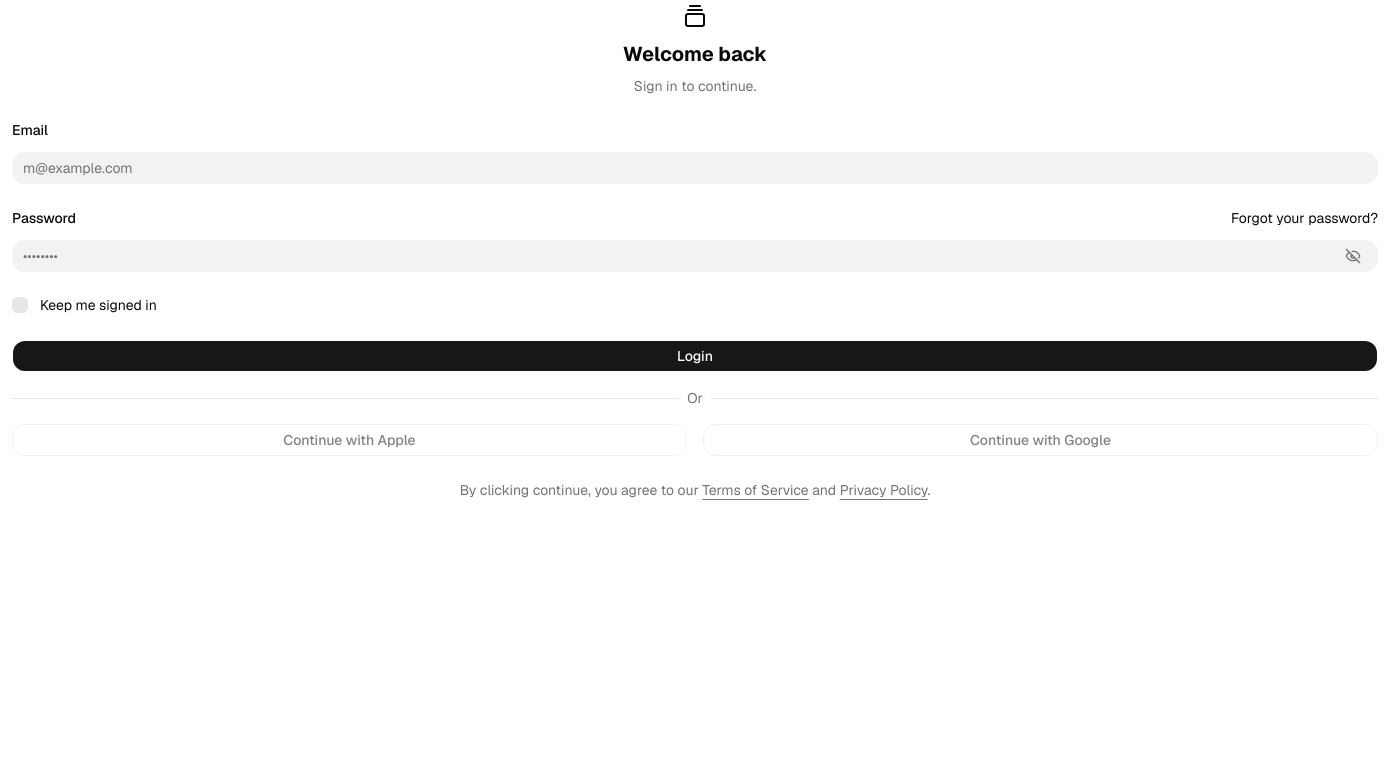
Test: LoginForm › shows the server's message when the login fails
The image size is (1390, 768).
Type "ada@example.com" into the field labelled "Email" at (695, 168), box [12,152,1378,184]
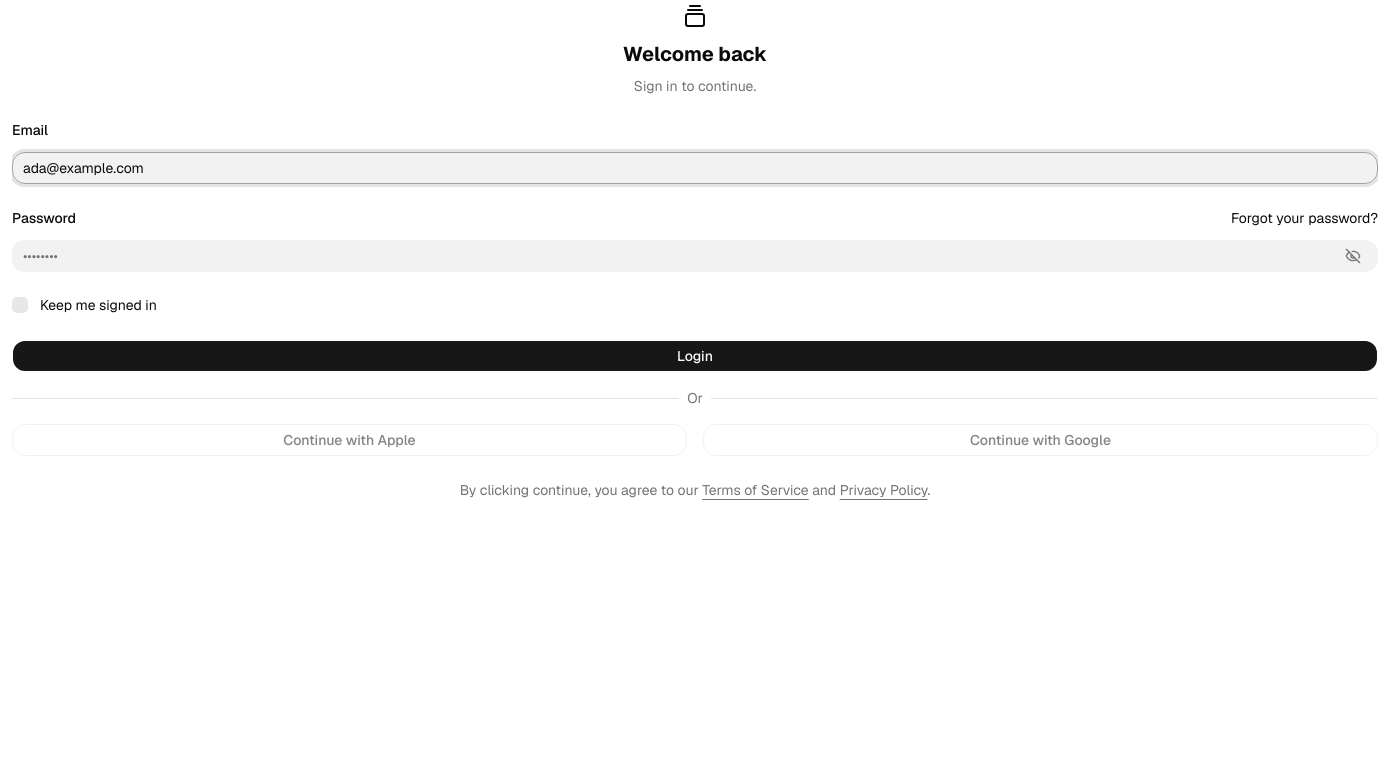
Type "a-good-password" into the password field labelled "Password" at (672, 256), box [13,240,1332,272]
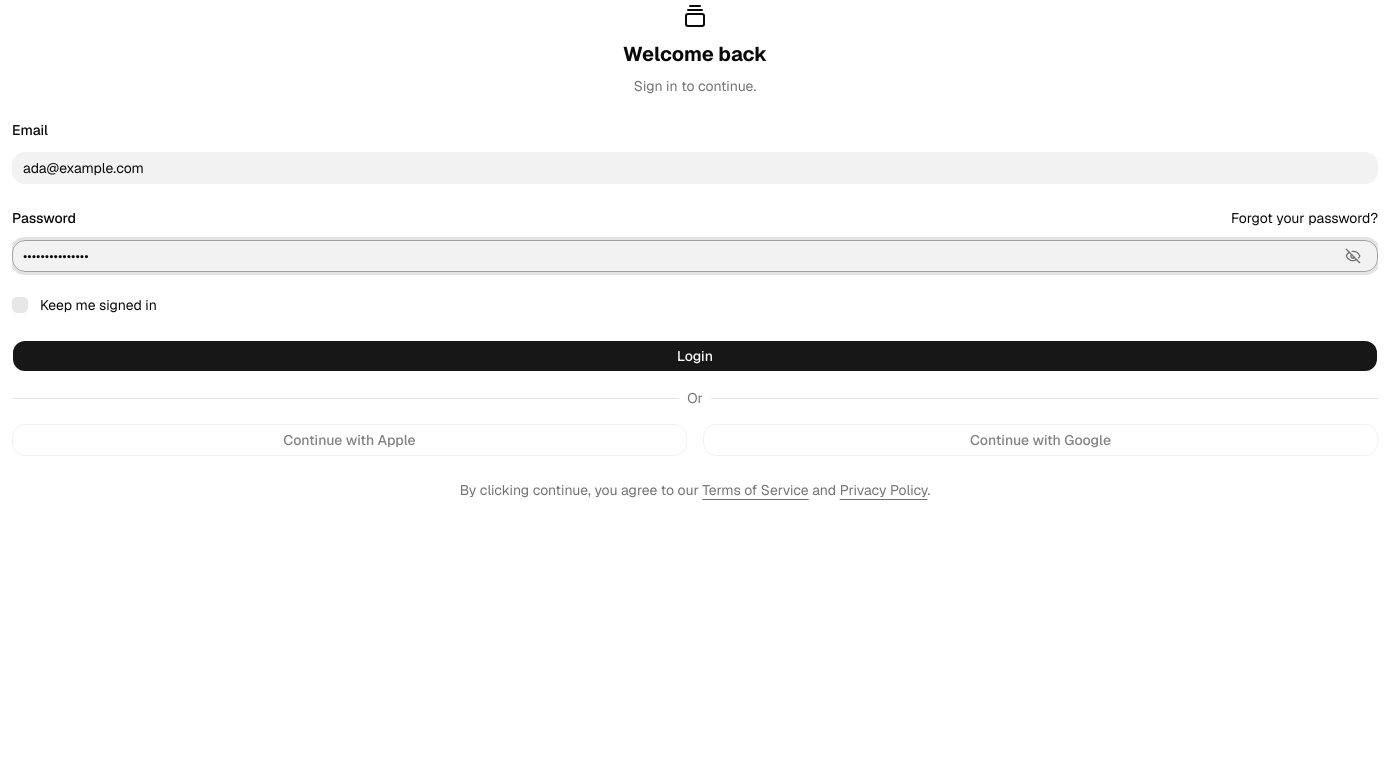
Click the button "Login" at (695, 356), box [12,340,1378,372]
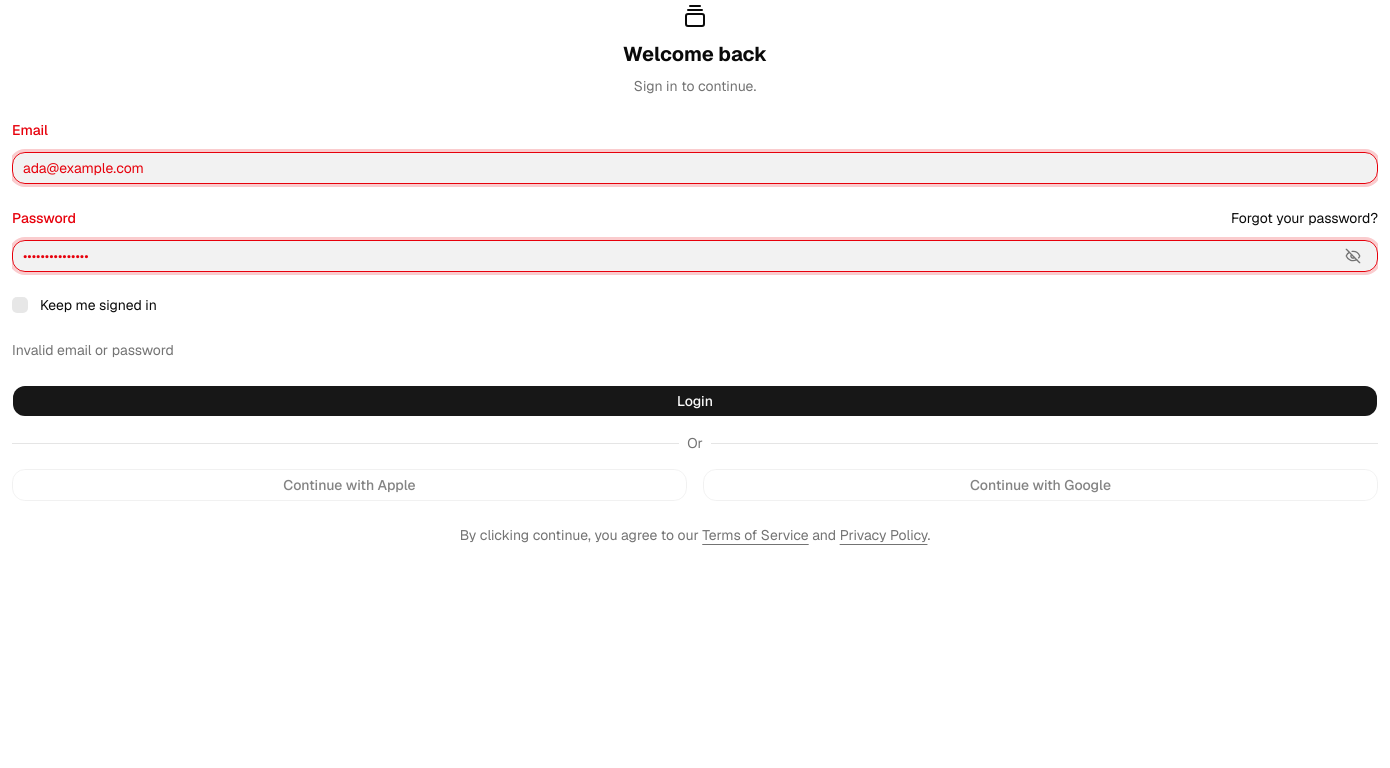
Check: the message reads "Invalid email or password", box [12,340,174,358]
